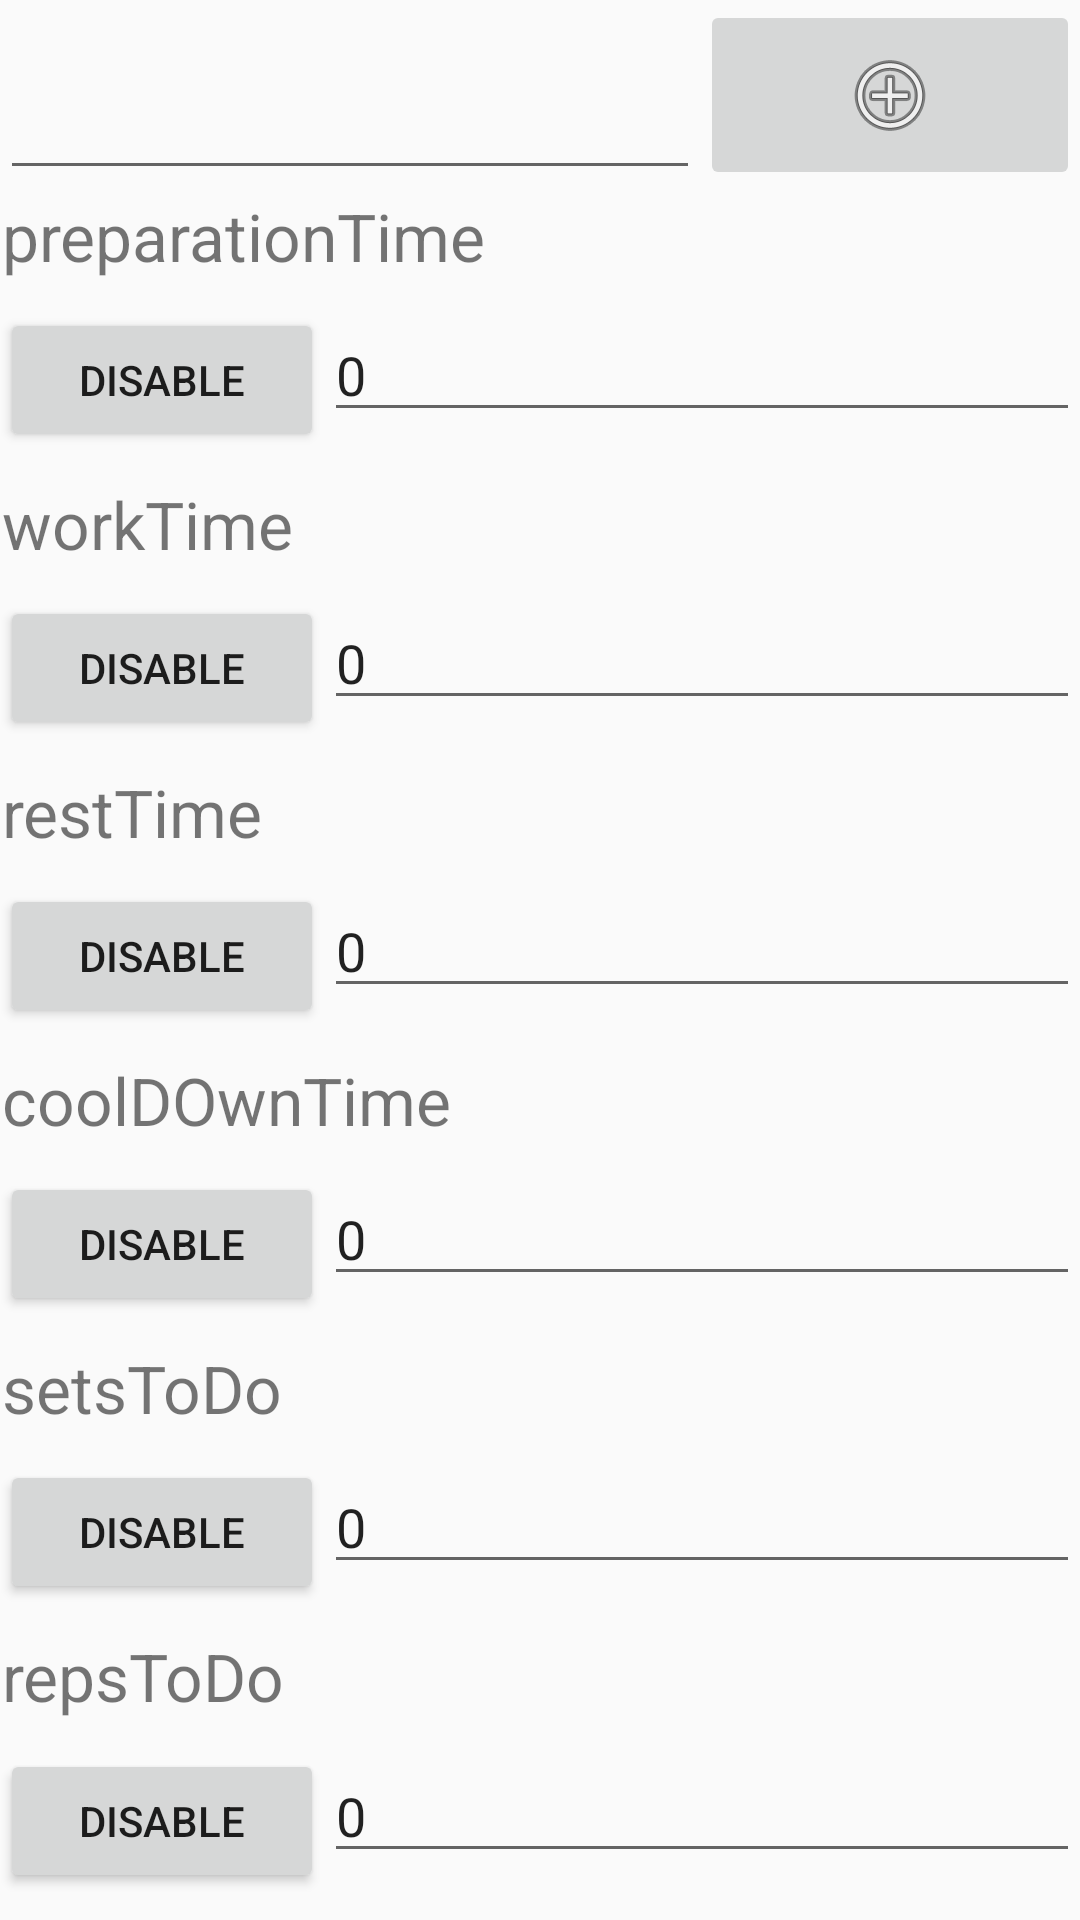

Screen size 1080×1920. Icon name, then its box in pixels as (x1, y1, x2, y2):
add: (712, 18, 1068, 172)
